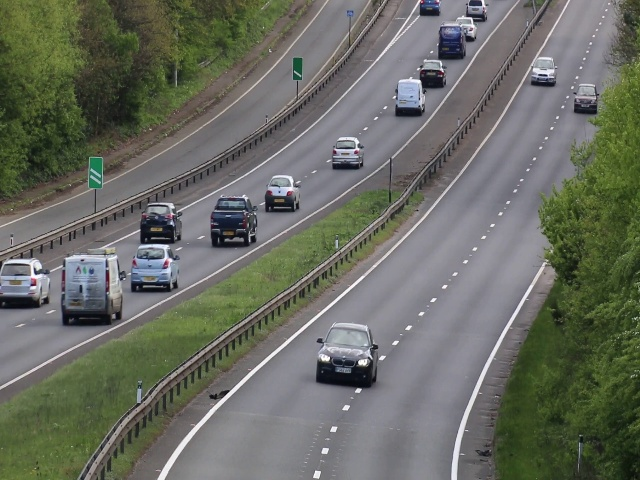car: (61, 251, 123, 326), (315, 319, 379, 386), (1, 257, 52, 308), (131, 244, 181, 292), (210, 197, 257, 248), (139, 202, 185, 240), (264, 175, 302, 212), (330, 136, 367, 169), (397, 78, 424, 117), (439, 26, 465, 60), (527, 56, 558, 84), (574, 82, 596, 114), (422, 59, 447, 86), (464, 1, 491, 19), (420, 1, 440, 16)
